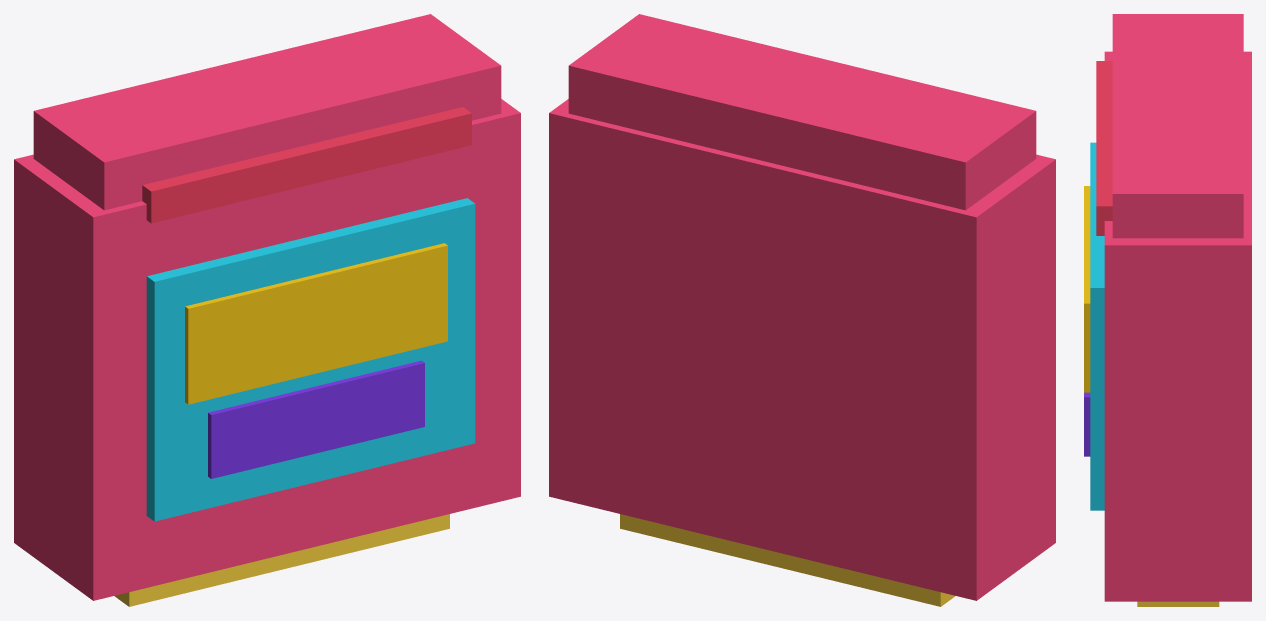
The model's file is w5_03_cartridge.glb.
The picture shows the model from 3 angles, left to right: view 1: azimuth 30°, elevation 25°; view 2: azimuth 150°, elevation 25°; view 3: azimuth 270°, elevation 25°; orthographic projection. The views are drawn at different scales.
Visible parts, largest first — view 1: W5_03_Cartridge; view 2: W5_03_Cartridge; view 3: W5_03_Cartridge.
Part boxes in pixels (x1,y1,x2,y2): W5_03_Cartridge: (14,14,520,606); W5_03_Cartridge: (549,14,1055,606); W5_03_Cartridge: (1084,14,1251,606).
Bounding box in the file's own units: 0.56 × 0.58 × 0.205.
1 material, 1 textured.
